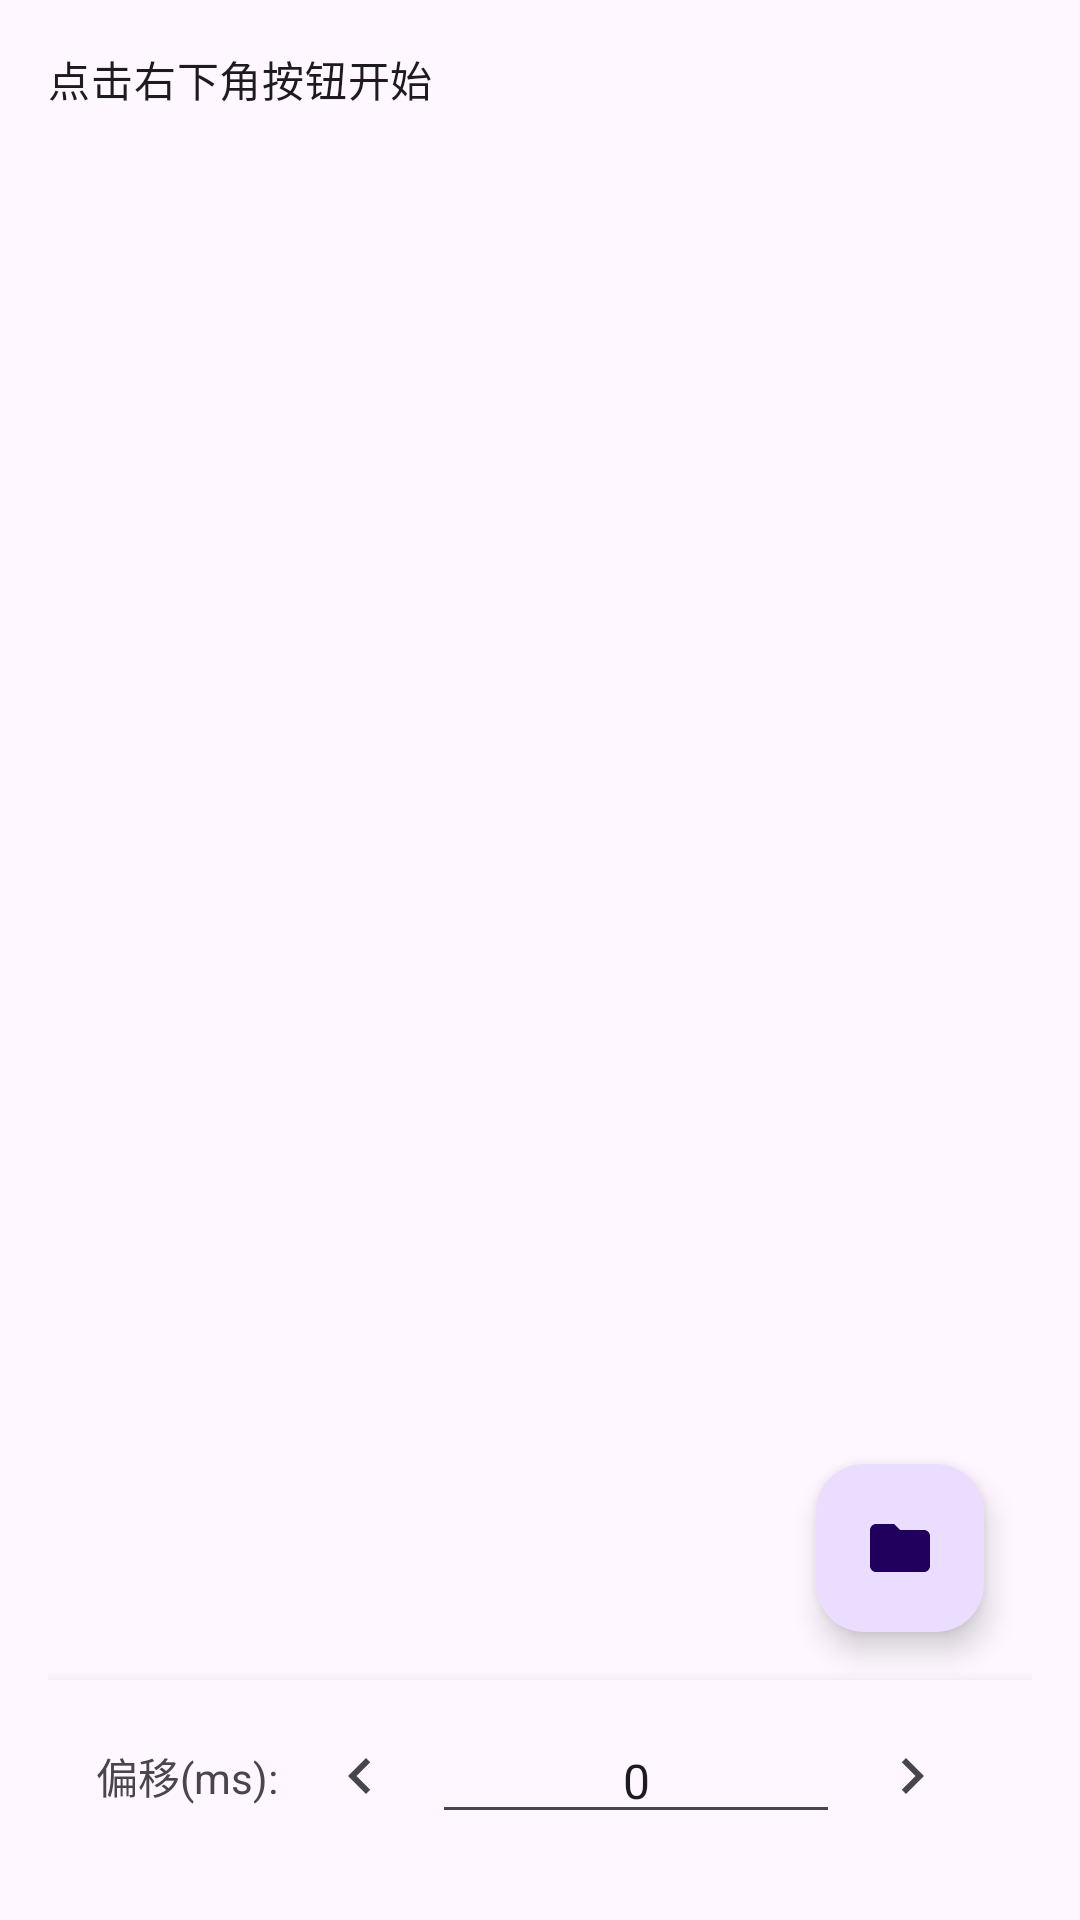

Where icons sit on this 1080*1920 app screen, as box=[x1, y1, x2, y2]:
减少偏移: box=[348, 1758, 370, 1794]
增加偏移: box=[902, 1758, 924, 1794]
选择文件夹: box=[816, 1464, 984, 1632]
